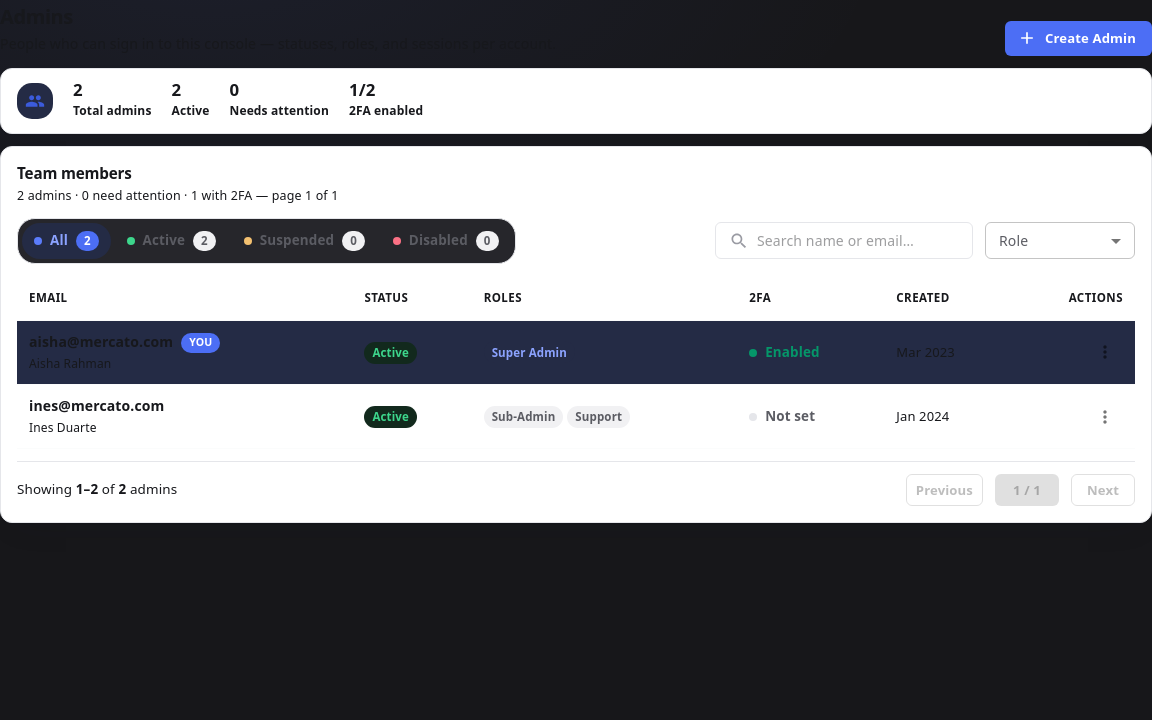
Test case: AdminsView (live API wiring) › details dialog renders server activity, not preview copy
The width and height of the screenshot is (1152, 720).
Expected: the text "ines@mercato.com" is shown, [29, 396, 164, 415]
Click the button named "Actions for ines@mercato.com" at x=1105, y=417, box [1087, 399, 1123, 435]
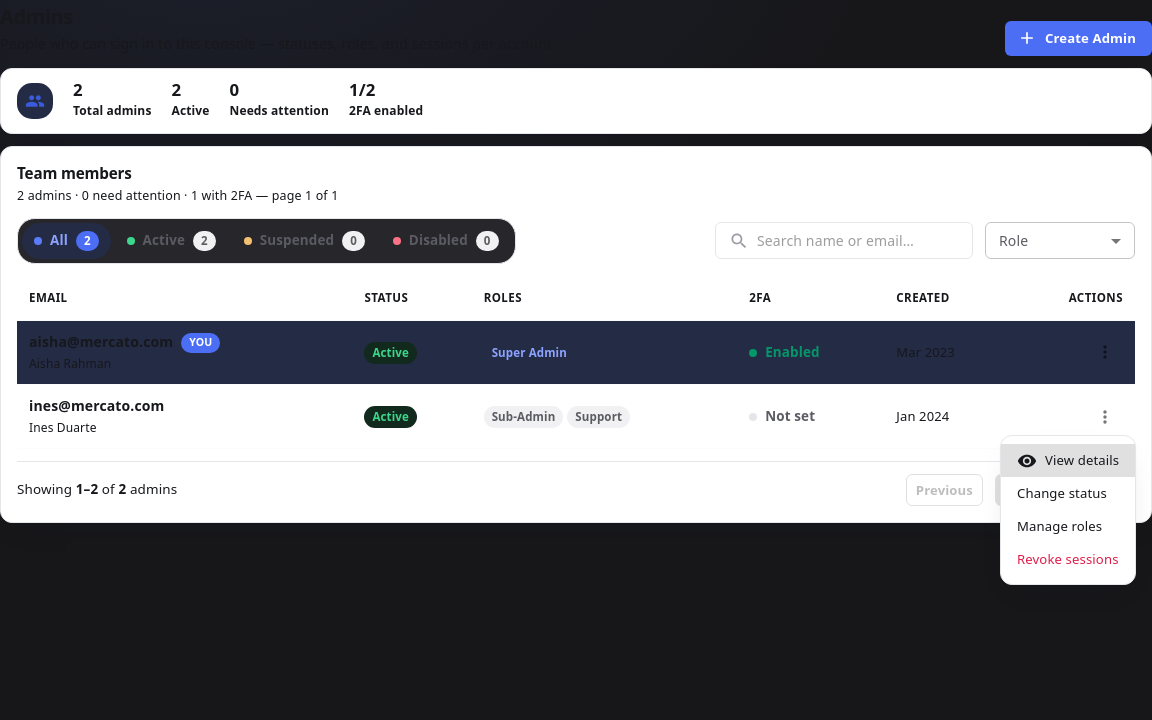
Click the menu item "View details" at x=1068, y=460, box [1001, 444, 1135, 477]
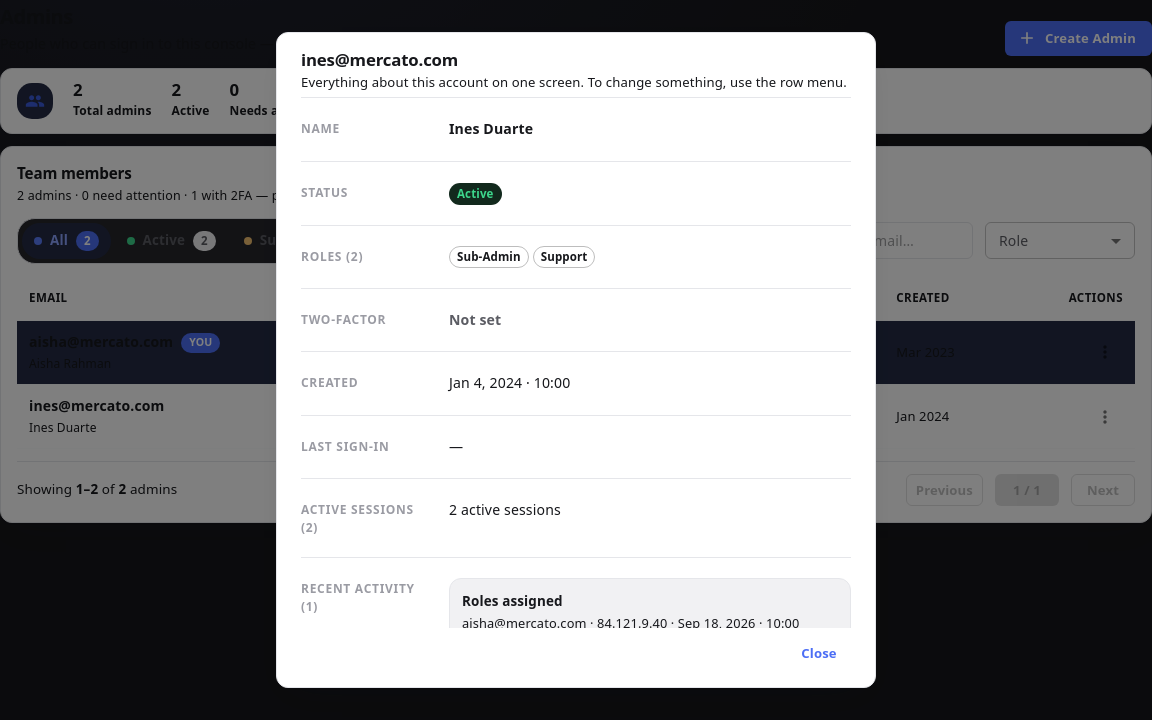
Result: the text "Roles assigned" is shown at [462, 592, 563, 610]
Result: the text "aisha@mercato.com · 84.121.9.40 · Sep 18, 2026 · 10:00" is shown at [462, 613, 838, 628]
